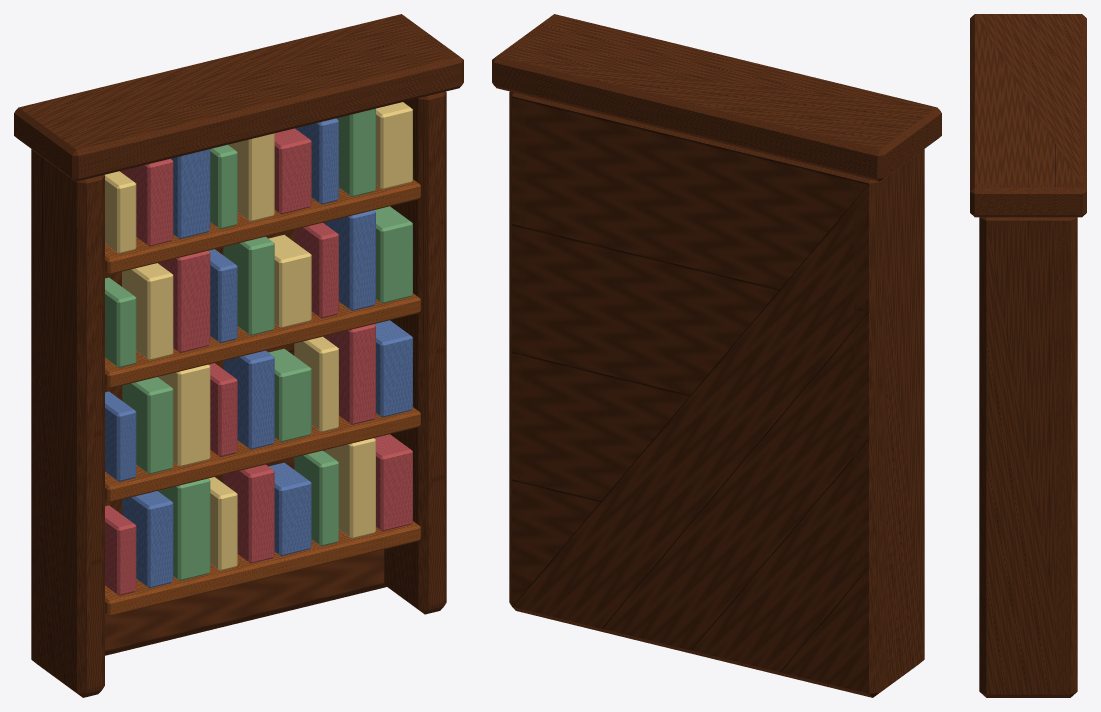
The model's file is fantasy-mmo-city-and-townsfolk-library-bookcase-0190afaf__32756.glb.
3 views of the same model, side by side, from view 1: azimuth 30°, elevation 25°; view 2: azimuth 150°, elevation 25°; view 3: azimuth 270°, elevation 25° (orthographic). The views are drawn at different scales.
Parts seen in each view (by area): view 1: library-bookcase; view 2: library-bookcase; view 3: library-bookcase.
Part boxes in pixels (left/top/right/bottom): library-bookcase: left=14, top=14, right=463, bottom=697; library-bookcase: left=492, top=14, right=941, bottom=697; library-bookcase: left=970, top=14, right=1086, bottom=697.
Bounding box in the file's own units: 1.8 × 2.44 × 0.4998.
6 materials, 4 textured.
